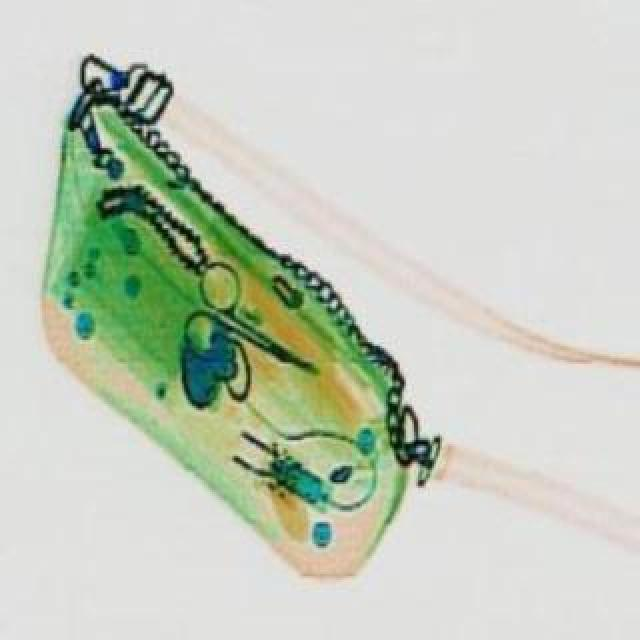pliers: (160, 248, 352, 410)
